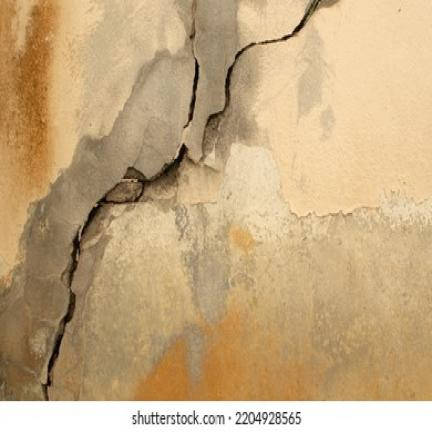karat: (3, 0, 62, 163)
